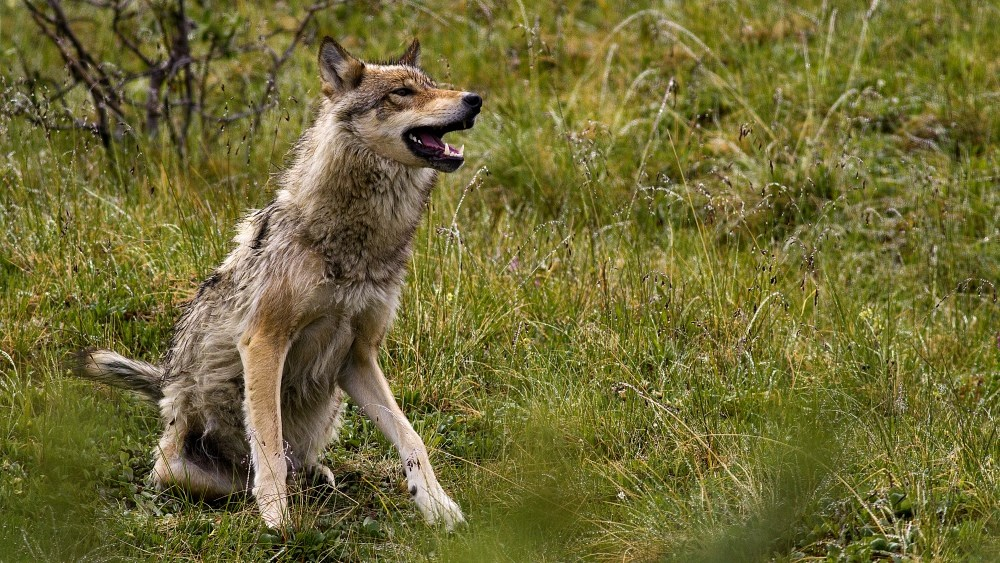wolf: (80, 39, 493, 536)
